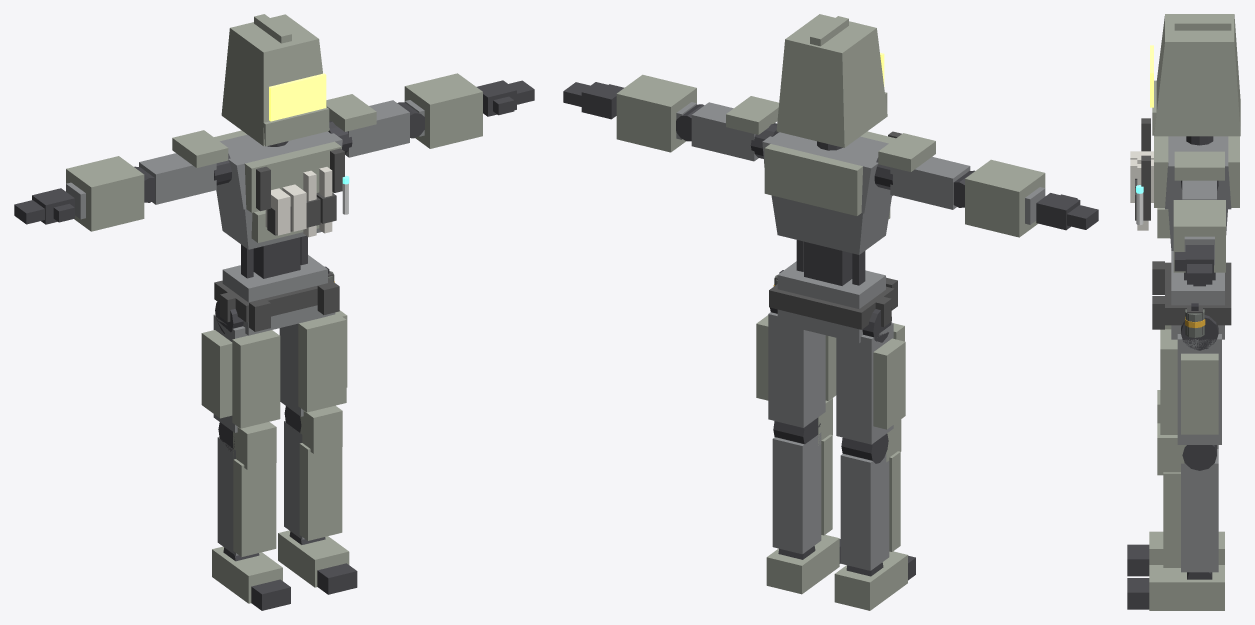
File: char_F1_marksman.glb
3 renders of one model, left to right at view 1: azimuth 30°, elevation 25°; view 2: azimuth 150°, elevation 25°; view 3: azimuth 270°, elevation 25°, orthographic. The views are drawn at different scales.
Visible parts, largest first — view 1: Head_mesh, RightUpperLeg_mesh, UpperChest_mesh, RightLowerLeg_mesh, LeftLowerLeg_mesh, Hips_mesh, LeftUpperLeg_mesh, RightLowerArm_mesh, LeftLowerArm_mesh, RightUpperArm_mesh, LeftUpperArm_mesh, LeftFoot_mesh (+9 smaller); view 2: Head_mesh, UpperChest_mesh, LeftLowerLeg_mesh, RightLowerLeg_mesh, RightUpperLeg_mesh, LeftUpperLeg_mesh, Hips_mesh, RightLowerArm_mesh, LeftLowerArm_mesh, Chest_mesh, RightUpperArm_mesh, LeftUpperArm_mesh (+5 smaller); view 3: Head_mesh, LeftLowerLeg_mesh, LeftUpperLeg_mesh, UpperChest_mesh, Hips_mesh, LeftFoot_mesh, LeftLowerArm_mesh, LeftUpperArm_mesh, LeftHand_mesh, RightToes_mesh, RightFoot_mesh, LeftToes_mesh (+6 smaller).
Boxes of the visible parts, x1,y1,x2,y2 form: Head_mesh: (221, 14, 329, 146); RightUpperLeg_mesh: (201, 299, 280, 432); UpperChest_mesh: (214, 130, 344, 235); RightLowerLeg_mesh: (217, 422, 276, 556); LeftLowerLeg_mesh: (284, 405, 342, 540); Hips_mesh: (214, 255, 339, 335); LeftUpperLeg_mesh: (279, 310, 347, 416); RightLowerArm_mesh: (66, 156, 154, 231); LeftLowerArm_mesh: (397, 73, 482, 148); RightUpperArm_mesh: (139, 130, 228, 204); LeftUpperArm_mesh: (326, 94, 409, 157); LeftFoot_mesh: (278, 530, 349, 587); Head_mesh: (776, 14, 887, 147); UpperChest_mesh: (762, 131, 901, 215); LeftLowerLeg_mesh: (772, 398, 832, 554); RightLowerLeg_mesh: (840, 419, 901, 570); RightUpperLeg_mesh: (836, 309, 905, 444); LeftUpperLeg_mesh: (756, 307, 836, 427); Hips_mesh: (769, 261, 897, 343); RightLowerArm_mesh: (953, 159, 1045, 237); LeftLowerArm_mesh: (616, 74, 704, 152); Chest_mesh: (771, 195, 891, 254); RightUpperArm_mesh: (878, 133, 970, 209); LeftUpperArm_mesh: (691, 96, 778, 161); Head_mesh: (1150, 14, 1240, 136); LeftLowerLeg_mesh: (1157, 423, 1218, 572); LeftUpperLeg_mesh: (1160, 315, 1221, 444); UpperChest_mesh: (1135, 118, 1239, 220); Hips_mesh: (1152, 251, 1231, 339); LeftFoot_mesh: (1149, 565, 1224, 610); LeftLowerArm_mesh: (1173, 200, 1225, 272); LeftUpperArm_mesh: (1174, 151, 1224, 199); LeftHand_mesh: (1174, 245, 1213, 284); RightToes_mesh: (1127, 544, 1149, 576); RightFoot_mesh: (1149, 531, 1224, 564); LeftToes_mesh: (1127, 578, 1149, 609).
Size of the model in its own units: 1.92 by 1.97 by 0.36.
